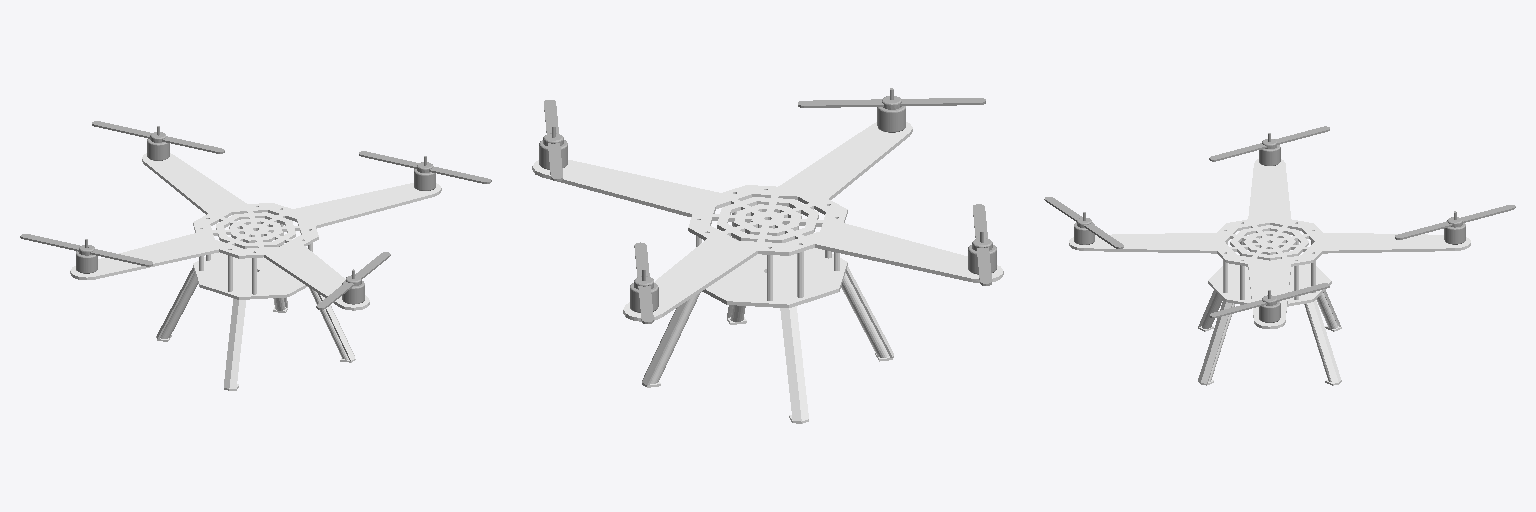
The robot description file, URDF, robot "provant_alpha_quadrotor":
<?xml version="1.0" encoding="utf-8"?>
<!--
This file is part of the ProVANT simulator project.
Licensed under the terms of the MIT open source license. More details at
https://github.com/Guiraffo/ProVANT-Simulator/blob/master/LICENSE.md
-->
<robot
  name="provant_alpha_quadrotor">
    <!-- Use with <material>Gazebo/Black</material>-->
  <material name="black">
    <color rgba="0.0 0.0 0.0 1.0"/>
  </material>

  <material name="blue">
    <color rgba="0.0 0.0 0.8 1.0"/>
  </material>

  <material name="green">
    <color rgba="0.0 0.8 0.0 1.0"/>
  </material>

  <material name="grey">
    <color rgba="0.2 0.2 0.2 1.0"/>
  </material>
  
  <!-- Use with <material>Gazebo/Orange</material>-->
  <material name="orange">
    <color rgba="1 0.42353 0.03922 1.0"/>
  </material>

  <material name="brown">
    <color rgba="1.0 0.81177 0.76471 1.0"/>
  </material>

  <!-- Use with <material>Gazebo/Red</material>-->
  <material name="red">
    <color rgba="0.8 0.0 0.0 1.0"/>
  </material>

  <material name="white">
    <color rgba="1.0 1.0 1.0 1.0"/>
  </material>

  <!-- Necessary for Rviz visualization of the model -->
  <link
    name="base_link">
    <inertial>
      <origin
        xyz="-6.66133814775094E-16 -1.55431223447522E-15 0.180998857571939"
        rpy="0 0 0" />
      <mass
        value="2.2" />
      <inertia
        ixx="0.0117197858769209"
        ixy="-7.63245755057274E-17"
        ixz="1.16636444461938E-18"
        iyy="0.0117197858769209"
        iyz="5.58752635680239E-18"
        izz="0.0234029287921774" />
    </inertial>
    <visual>
      <origin
        xyz="0 0 0"
        rpy="0 0 0" />
      <geometry>
        <mesh
          filename="model://provant_alpha_quadrotor/meshes/base_link.STL" />
      </geometry>
      <material
        name="">
        <color
          rgba="1 1 1 1" />
      </material>
    </visual>
    <collision>
      <origin
        xyz="0 0 0"
        rpy="0 0 0" />
      <geometry>
        <mesh
          filename="model://provant_alpha_quadrotor/meshes/base_link.STL" />
      </geometry>
    </collision>
  </link>
  <link
    name="legs">
    <inertial>
      <origin
        xyz="5.55111512312578E-16 1.11022302462516E-15 0.0621262276194157"
        rpy="0 0 0" />
      <mass
        value="0.14623345246629" />
      <inertia
        ixx="0.000237434770940027"
        ixy="2.68509444279613E-19"
        ixz="-1.08873598996886E-18"
        iyy="0.000237434770940027"
        iyz="6.77626357804862E-21"
        izz="5.41386422243988E-05" />
    </inertial>
    <visual>
      <origin
        xyz="0 0 0"
        rpy="0 0 0" />
      <geometry>
        <mesh
          filename="model://provant_alpha_quadrotor/meshes/legs.STL" />
      </geometry>
      <material
        name="">
        <color
          rgba="1 1 1 1" />
      </material>
    </visual>
    <collision>
      <origin
        xyz="0 0 0"
        rpy="0 0 0" />
      <geometry>
        <mesh
          filename="model://provant_alpha_quadrotor/meshes/legs.STL" />
      </geometry>
    </collision>
  </link>
  <joint
    name="joint1"
    type="fixed">
    <origin
      xyz="0 0 0"
      rpy="0 0 0" />
    <parent
      link="base_link" />
    <child
      link="legs" />
    <axis
      xyz="0 0 0" />
  </joint>
  <link
    name="prop1">
    <inertial>
      <origin
        xyz="0 -1.66533453693773E-16 0.0220243882624624"
        rpy="0 0 0" />
      <mass
        value="0.0900308275627489" />
      <inertia
        ixx="4.47942174809247E-05"
        ixy="2.06649562901672E-05"
        ixz="5.03946016627054E-20"
        iyy="2.521089655902E-05"
        iyz="-7.11700751667277E-20"
        izz="5.78162740600789E-05" />
    </inertial>
    <visual>
      <origin
        xyz="0 0 0"
        rpy="0 0 0" />
      <geometry>
        <mesh
          filename="model://provant_alpha_quadrotor/meshes/prop1.STL" />
      </geometry>
      <material
        name="">
        <color
          rgba="0.752941176470588 0.752941176470588 0.752941176470588 1" />
      </material>
    </visual>
    <collision>
      <origin
        xyz="0 0 0"
        rpy="0 0 0" />
      <geometry>
        <mesh
          filename="model://provant_alpha_quadrotor/meshes/prop1.STL" />
      </geometry>
    </collision>
  </link>
  <joint
    name="f1"
    type="continuous">
    <origin
      xyz="0.3 0 0.2005"
      rpy="0 0 0" />
    <parent
      link="base_link" />
    <child
      link="prop1" />
    <axis
      xyz="0 0 -1" />
    <limit
      effort="0"
      velocity="0" />
  </joint>
  <link
    name="prop2">
    <inertial>
      <origin
        xyz="2.22044604925031E-16 0 0.0220243882624623"
        rpy="0 0 0" />
      <mass
        value="0.090030827562749" />
      <inertia
        ixx="4.4794217480925E-05"
        ixy="2.06649562901671E-05"
        ixz="-6.3683033054006E-21"
        iyy="2.52108965590198E-05"
        iyz="-3.19398545463806E-21"
        izz="5.7816274060079E-05" />
    </inertial>
    <visual>
      <origin
        xyz="0 0 0"
        rpy="0 0 0" />
      <geometry>
        <mesh
          filename="model://provant_alpha_quadrotor/meshes/prop2.STL" />
      </geometry>
      <material
        name="">
        <color
          rgba="0.752941176470588 0.752941176470588 0.752941176470588 1" />
      </material>
    </visual>
    <collision>
      <origin
        xyz="0 0 0"
        rpy="0 0 0" />
      <geometry>
        <mesh
          filename="model://provant_alpha_quadrotor/meshes/prop2.STL" />
      </geometry>
    </collision>
  </link>
  <joint
    name="f2"
    type="continuous">
    <origin
      xyz="0 0.3 0.2005"
      rpy="0 0 0" />
    <parent
      link="base_link" />
    <child
      link="prop2" />
    <axis
      xyz="0 0 -1" />
    <limit
      effort="0"
      velocity="0" />
  </joint>
  <link
    name="prop3">
    <inertial>
      <origin
        xyz="-1.11022302462516E-16 0 0.0220243882624621"
        rpy="0 0 0" />
      <mass
        value="0.0900308275627489" />
      <inertia
        ixx="4.47942174809249E-05"
        ixy="2.06649562901671E-05"
        ixz="-6.5215728108858E-21"
        iyy="2.52108965590197E-05"
        iyz="-4.87207536330794E-21"
        izz="5.78162740600789E-05" />
    </inertial>
    <visual>
      <origin
        xyz="0 0 0"
        rpy="0 0 0" />
      <geometry>
        <mesh
          filename="model://provant_alpha_quadrotor/meshes/prop3.STL" />
      </geometry>
      <material
        name="">
        <color
          rgba="0.752941176470588 0.752941176470588 0.752941176470588 1" />
      </material>
    </visual>
    <collision>
      <origin
        xyz="0 0 0"
        rpy="0 0 0" />
      <geometry>
        <mesh
          filename="model://provant_alpha_quadrotor/meshes/prop3.STL" />
      </geometry>
    </collision>
  </link>
  <joint
    name="f3"
    type="continuous">
    <origin
      xyz="-0.3 0 0.2005"
      rpy="0 0 0" />
    <parent
      link="base_link" />
    <child
      link="prop3" />
    <axis
      xyz="0 0 -1" />
    <limit
      effort="0"
      velocity="0" />
  </joint>
  <link
    name="prop4">
    <inertial>
      <origin
        xyz="2.22044604925031E-16 1.38777878078145E-17 0.0210243882624621"
        rpy="0 0 0" />
      <mass
        value="0.0900308275627489" />
      <inertia
        ixx="2.52108965590196E-05"
        ixy="-2.0664956290167E-05"
        ixz="-9.979423408339E-21"
        iyy="4.47942174809251E-05"
        iyz="-2.16491563912817E-21"
        izz="5.78162740600789E-05" />
    </inertial>
    <visual>
      <origin
        xyz="0 0 0"
        rpy="0 0 0" />
      <geometry>
        <mesh
          filename="model://provant_alpha_quadrotor/meshes/prop4.STL" />
      </geometry>
      <material
        name="">
        <color
          rgba="0.752941176470588 0.752941176470588 0.752941176470588 1" />
      </material>
    </visual>
    <collision>
      <origin
        xyz="0 0 0"
        rpy="0 0 0" />
      <geometry>
        <mesh
          filename="model://provant_alpha_quadrotor/meshes/prop4.STL" />
      </geometry>
    </collision>
  </link>
  <joint
    name="f4"
    type="continuous">
    <origin
      xyz="0 -0.3 0.2005"
      rpy="0 0 0" />
    <parent
      link="base_link" />
    <child
      link="prop4" />
    <axis
      xyz="0 0 -1" />
    <limit
      effort="0"
      velocity="0" />
  </joint>

  <!-- Defines the color of the links in gazebo -->
  <gazebo reference="base_link">
    <material>Gazebo/Red</material>
  </gazebo>

  <gazebo reference="legs">
    <material>Gazebo/Black</material>
  </gazebo>

  <gazebo reference="prop1">
    <material>Gazebo/White</material>
  </gazebo>

  <gazebo reference="prop2">
    <material>Gazebo/White</material>
  </gazebo>

  <gazebo reference="prop3">
    <material>Gazebo/White</material>
  </gazebo>

  <gazebo reference="prop4">
    <material>Gazebo/White</material>
  </gazebo>
  
  <!-- Loading the state and actuators plugins -->
  <gazebo>
    <!-- <plugin name="empuxo" filename="libgazebo_ros_QuadForces.so">
      <topic_F1>Empuxoh1</topic_F1>
      <topic_F2>Empuxoh2</topic_F2>
      <topic_F3>Empuxoh3</topic_F3>
      <topic_F4>Empuxoh4</topic_F4>
      <body>base_link</body>
      <Motor1>prop1</Motor1>
      <Motor2>prop2</Motor2>
      <Motor3>prop3</Motor3>
      <Motor4>prop4</Motor4>
      <DragCte>0.0179</DragCte>
    </plugin>  -->
    <plugin name="forces_1" filename="libgazebo_ros_brushless_plugin.so">
      <topic_FR>Empuxoh1</topic_FR>
      <LinkDir>prop1</LinkDir>
      <topic_FL>Empuxoh2</topic_FL>
      <LinkEsq>prop2</LinkEsq>
      <DragCte>0.0001</DragCte>
    </plugin>
    <plugin name="forces_2" filename="libgazebo_ros_brushless_plugin.so">
      <topic_FR>Empuxoh3</topic_FR>
      <LinkDir>prop3</LinkDir>
      <topic_FL>Empuxoh4</topic_FL>
      <LinkEsq>prop4</LinkEsq>
      <DragCte>0.0001</DragCte>
    </plugin>
    <plugin name="vetor_estados" filename="libgazebo_ros_QuadData.so">
      <NameOfTopic>Estados</NameOfTopic>
      <bodyName>base_link</bodyName>
    </plugin>
  </gazebo>

</robot>

--- Facts derived from the render (not from the file) ---
Views: 3 orthographic renders of the robot side by side, from view 1: azimuth 30°, elevation 25°; view 2: azimuth 150°, elevation 25°; view 3: azimuth 270°, elevation 25°.
Robot: provant_alpha_quadrotor — 6 links, 5 joints (4 continuous, 1 fixed); root link base_link; default pose: every joint at zero.
Links seen in each view (by area): view 1: base_link, legs, prop2, prop1, prop3, prop4; view 2: base_link, legs, prop4, prop3, prop2, prop1; view 3: base_link, legs, prop2, prop3, prop1, prop4.
Boxes of the visible links, <box> form: base_link: <box>70,153,441,310</box>; legs: <box>156,268,355,390</box>; prop2: <box>92,121,224,160</box>; prop1: <box>359,151,491,190</box>; prop3: <box>20,234,152,273</box>; prop4: <box>316,252,390,309</box>; base_link: <box>532,122,1003,321</box>; legs: <box>642,266,893,423</box>; prop4: <box>798,88,985,132</box>; prop3: <box>968,204,996,285</box>; prop2: <box>630,242,658,323</box>; prop1: <box>539,100,567,180</box>; base_link: <box>1069,159,1470,328</box>; legs: <box>1198,290,1341,385</box>; prop2: <box>1395,205,1515,244</box>; prop3: <box>1209,126,1329,165</box>; prop1: <box>1209,283,1329,322</box>; prop4: <box>1044,197,1123,248</box>.
Bounding box of the posed robot: 0.7292 × 0.7623 × 0.256 m (x, y, z).
6 mesh visuals loaded from 6 distinct referenced files (6 binary STL).
